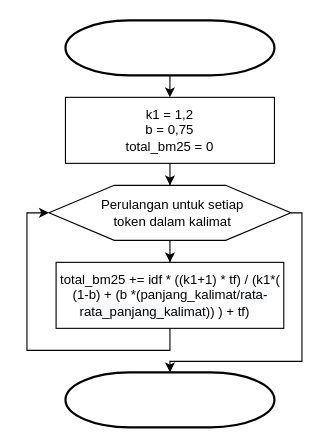
The diagram is 330 pixels wide and 447 high, and some of its shapes have lost their labels. The shapes that lost their labels are listed below. From the top down, each one's centre as x and y in pixels, then its label:
At pixel 169 47: "Calculate BM25(tf, idf, doc, rata-rata_panjang_kalimat)".
At pixel 169 399: "Return total_bm25".
